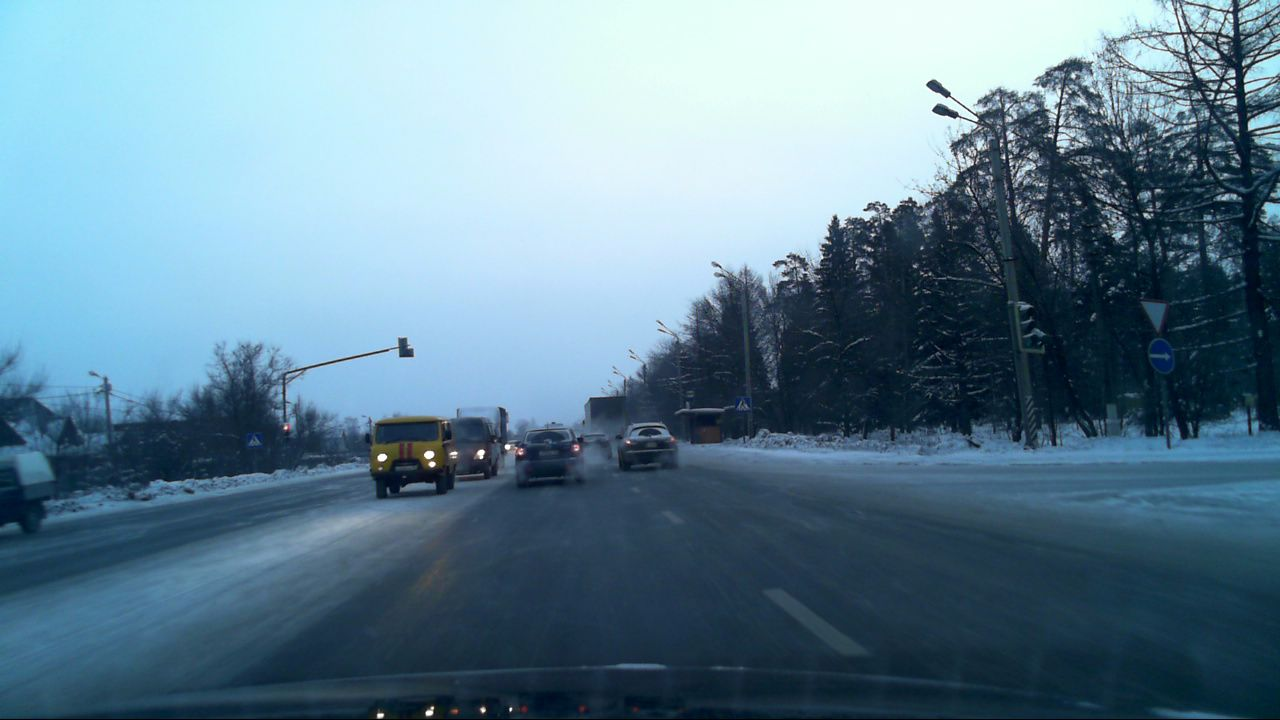Turn Right: (1146, 337, 1176, 375)
